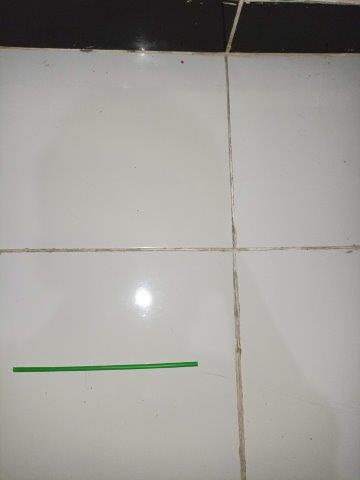sedotan: (13, 361, 198, 373)
